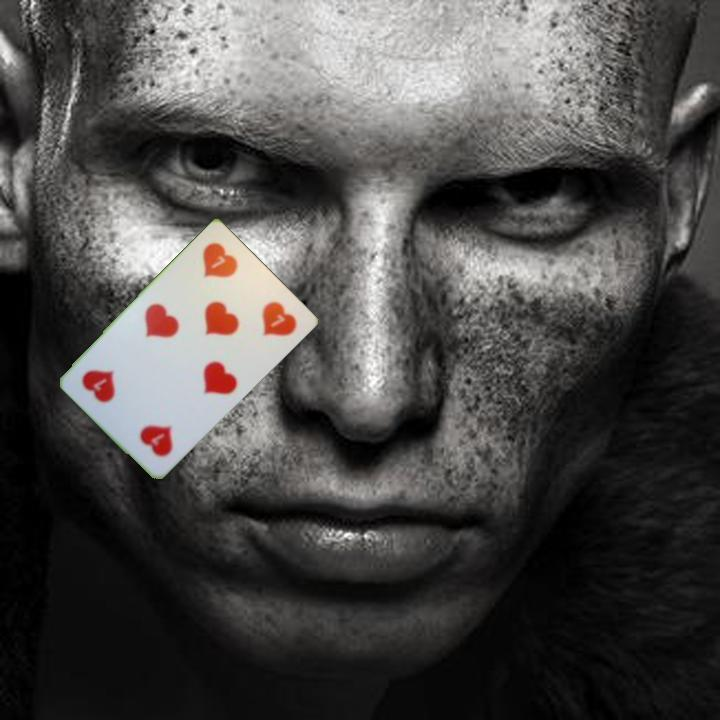h_7.png: (110, 383, 196, 469), (176, 231, 262, 317)
